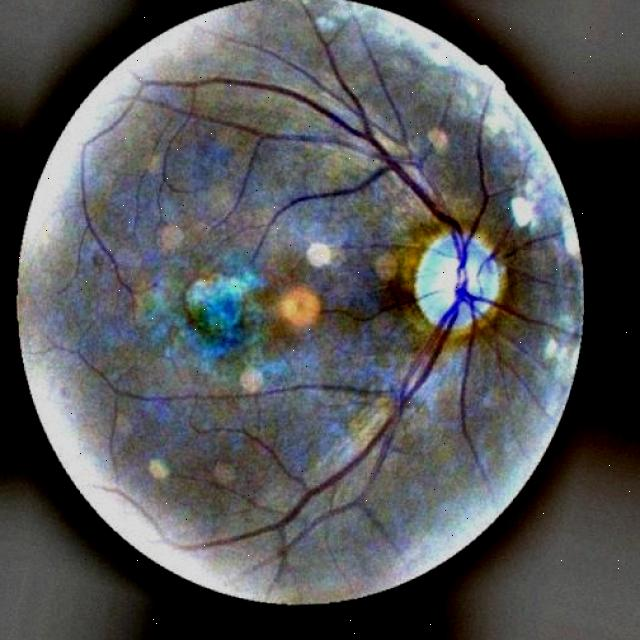Macula: (160, 268, 287, 371)
Nerves: (122, 38, 471, 251), (225, 289, 469, 580)
Optic Disk: (412, 230, 505, 336)
